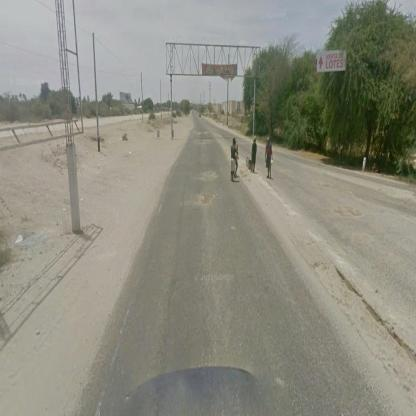Peaton: (266, 135, 274, 180), (232, 138, 239, 182), (251, 137, 257, 174)
Pista: (140, 111, 415, 236)
